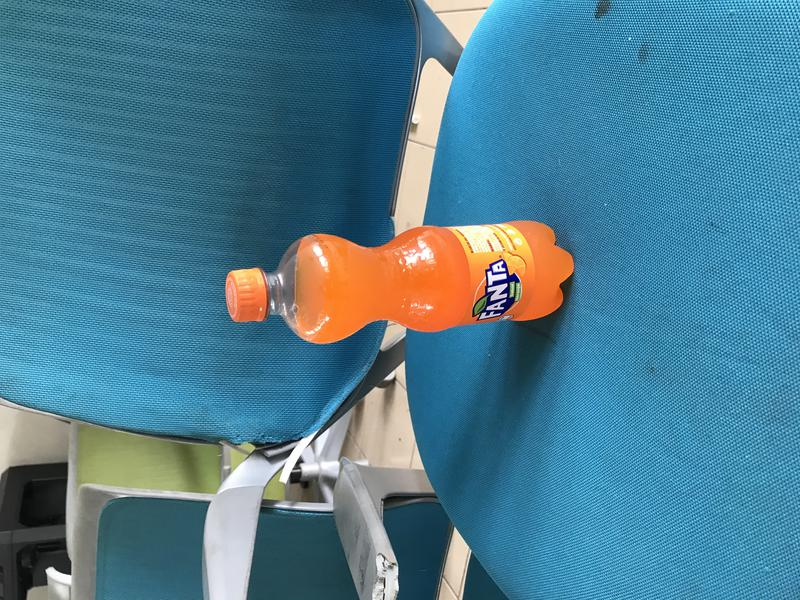fanta: (225, 219, 575, 345)
